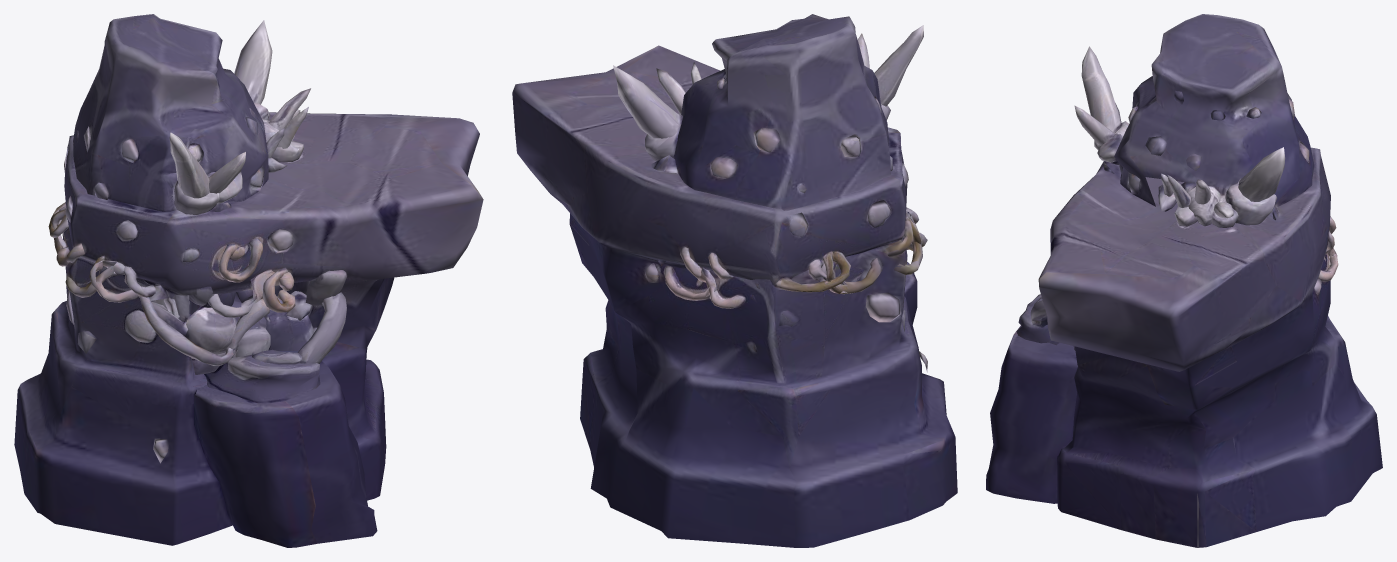
File: ce_borda_abismo.glb
3 renders of one model, left to right at view 1: azimuth 30°, elevation 25°; view 2: azimuth 150°, elevation 25°; view 3: azimuth 270°, elevation 25°, orthographic. The views are drawn at different scales.
Parts seen in each view (by area): view 1: Mesh_0; view 2: Mesh_0; view 3: Mesh_0.
Boxes of the visible parts, x1=… form: Mesh_0: x1=14, y1=14, x2=483, y2=547; Mesh_0: x1=512, y1=14, x2=957, y2=547; Mesh_0: x1=986, y1=14, x2=1382, y2=547.
Bounding box in the file's own units: 0.349 × 0.3467 × 0.298.
Materials: 1 (1 with a texture image).
